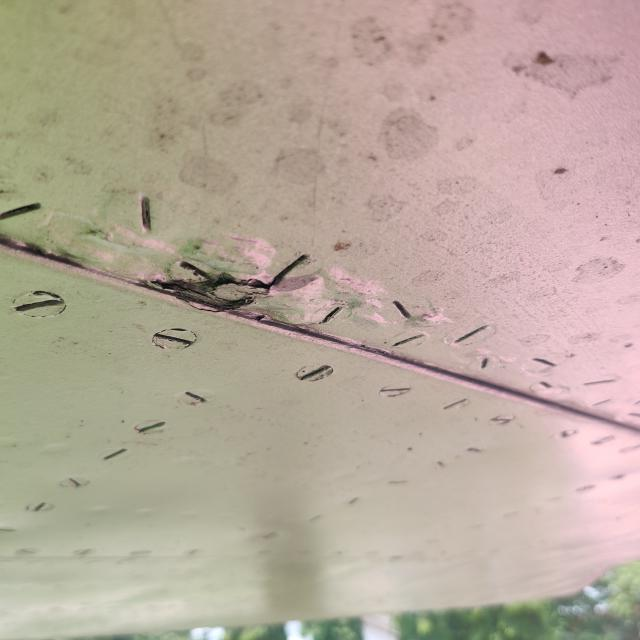paint-off: (131, 240, 292, 324)
